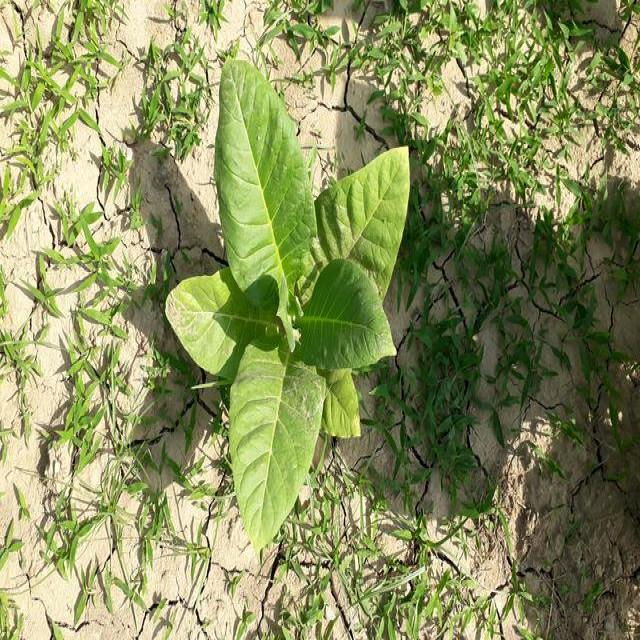crop: (166, 53, 412, 530)
